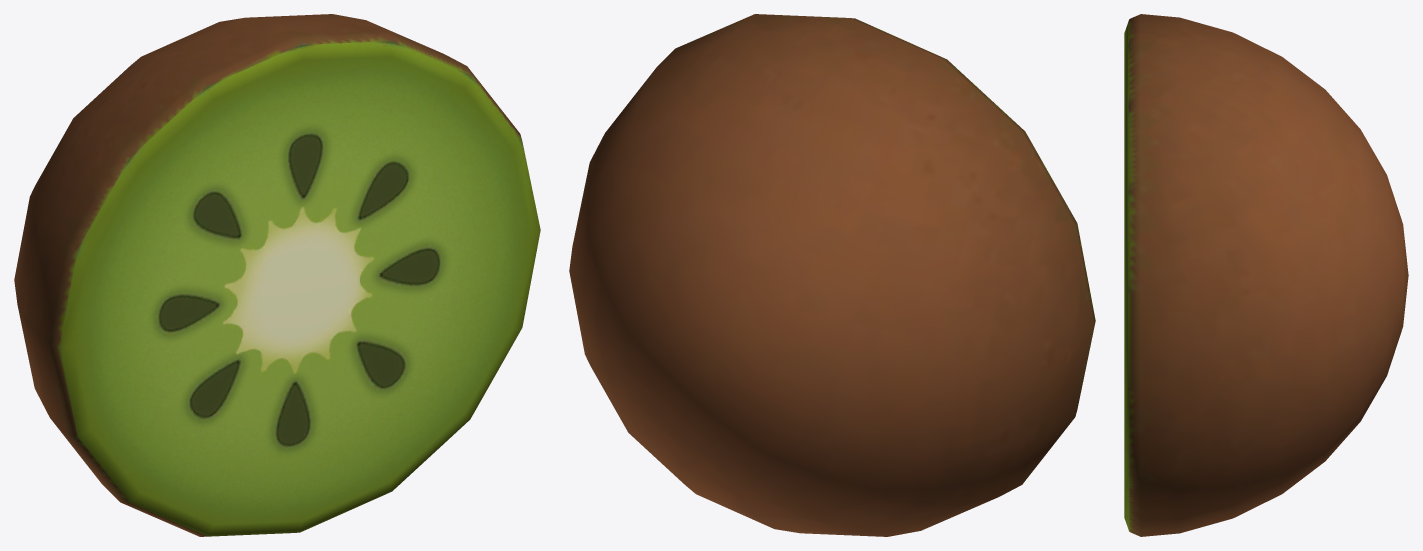
Rendered from 0-kiwi.fbx.
The picture shows the model from 3 angles, left to right: view 1: azimuth 30°, elevation 25°; view 2: azimuth 150°, elevation 25°; view 3: azimuth 270°, elevation 25°; orthographic projection. The views are drawn at different scales.
Parts seen in each view (by area): view 1: 0-kiwi; view 2: 0-kiwi; view 3: 0-kiwi.
Part boxes in pixels (x1,y1,x2,y2): 0-kiwi: (14, 14, 540, 536); 0-kiwi: (569, 14, 1095, 536); 0-kiwi: (1124, 14, 1408, 536).
Bounding box in the file's own units: 96.17 × 93.19 × 50.86.
